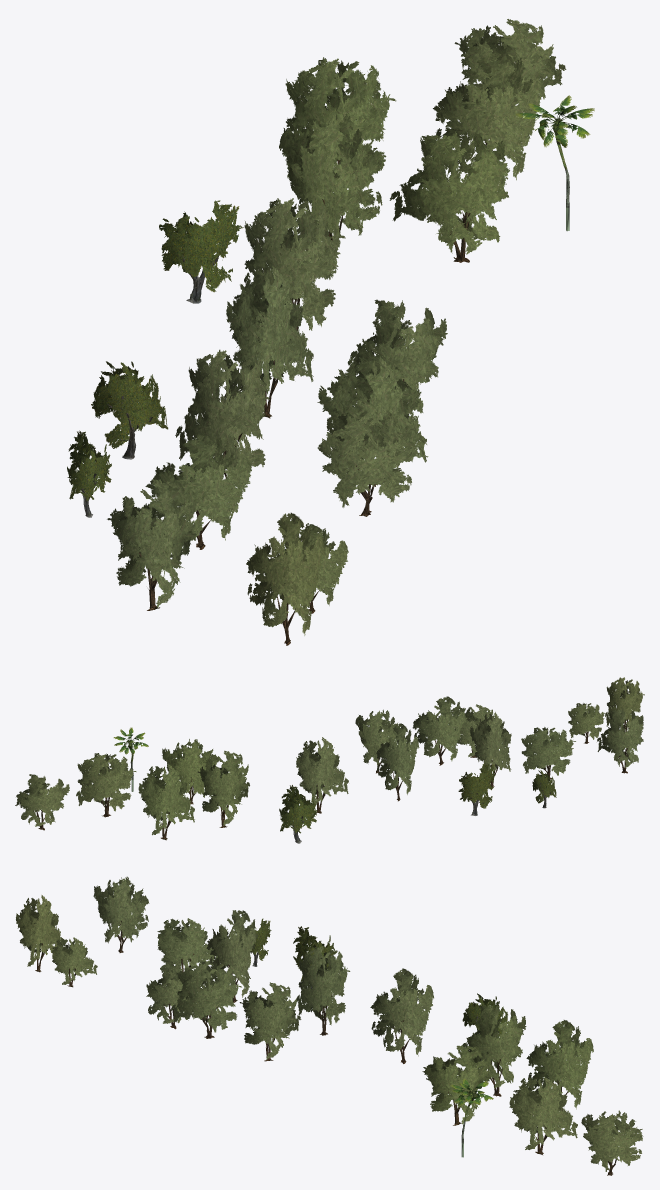
3 renders of one model, top to bottom at view 1: azimuth 30°, elevation 25°; view 2: azimuth 150°, elevation 25°; view 3: azimuth 270°, elevation 25°, orthographic. The views are drawn at different scales.
Parts seen in each view (by area): view 1: jacaranda_tree street foliage, island_tree_01 street foliage, Sands promenade palm fronds and bark, jacaranda_tree park bark, island_tree_01 park bark; view 2: jacaranda_tree street foliage, island_tree_01 street foliage, jacaranda_tree park bark, Sands promenade palm fronds and bark, island_tree_01 park bark; view 3: jacaranda_tree street foliage, island_tree_01 street foliage, jacaranda_tree park bark, Sands promenade palm fronds and bark.
Part boxes in pixels (x1,y1,x2,y2): jacaranda_tree street foliage: (107,19,566,635); island_tree_01 street foliage: (67,200,243,500); Sands promenade palm fronds and bark: (515,95,594,231); jacaranda_tree park bark: (139,138,492,645); island_tree_01 park bark: (78,237,222,517); jacaranda_tree street foliage: (15,677,644,835); island_tree_01 street foliage: (279,763,556,833); jacaranda_tree park bark: (33,719,628,840); Sands promenade palm fronds and bark: (113,727,148,791); island_tree_01 park bark: (290,782,551,843); jacaranda_tree street foliage: (16,876,643,1171); island_tree_01 street foliage: (244,918,507,1042); jacaranda_tree park bark: (34,920,617,1175); Sands promenade palm fronds and bark: (450,1078,493,1157).
Size of the model in its own units: 118 by 20.63 by 125.
Materials: 5 (5 with a texture image).
